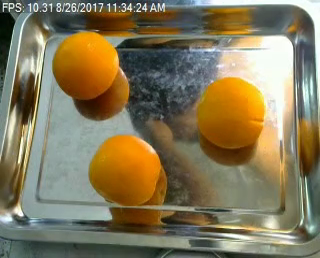Orange: (87, 135, 158, 207), (196, 77, 265, 148), (52, 31, 120, 100)
